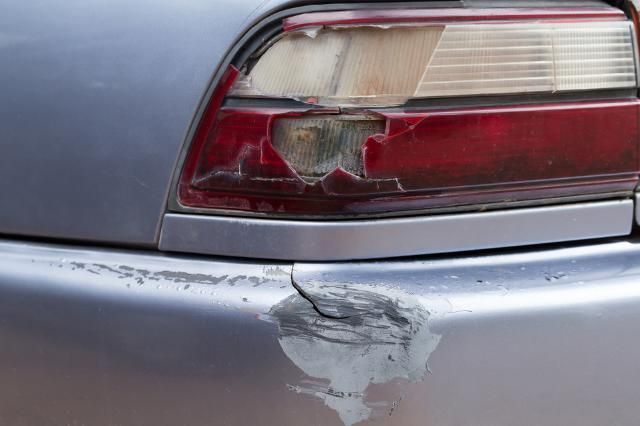Bumper: (43, 243, 640, 426)
Light: (215, 14, 640, 205)
